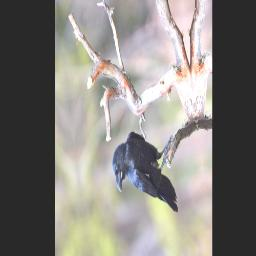Crow: (108, 119, 181, 235)
